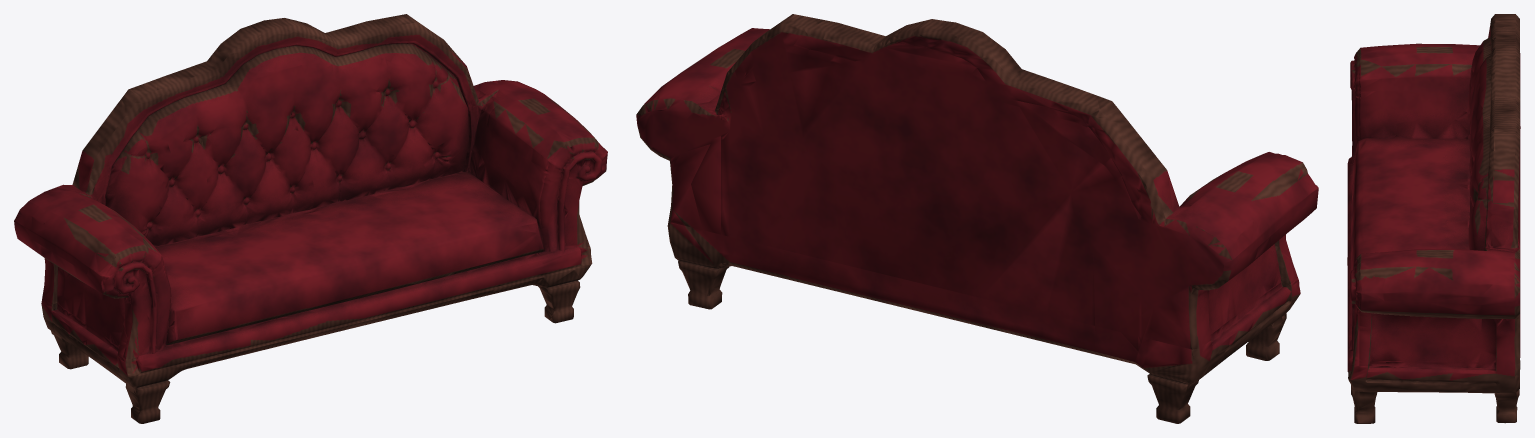
The model's file is Sofa_Parts.glb.
3 views of the same model, side by side, from view 1: azimuth 30°, elevation 25°; view 2: azimuth 150°, elevation 25°; view 3: azimuth 270°, elevation 25° (orthographic). The views are drawn at different scales.
Visible parts, largest first — view 1: Sofa_BackPanel, Sofa_Seat, Sofa_Base, Sofa_BackFrame, Sofa_Arm_L, Sofa_Arm_R, Sofa_ArmFront_L, Sofa_ArmFront_R, Sofa_Leg_FL, Sofa_Leg_FR, Sofa_Leg_BL; view 2: Sofa_BackRear, Sofa_BackFrame, Sofa_Arm_L, Sofa_Base, Sofa_Arm_R, Sofa_Leg_BL, Sofa_Leg_BR, Sofa_Leg_FL; view 3: Sofa_Arm_R, Sofa_Seat, Sofa_Arm_L, Sofa_BackFrame, Sofa_Base, Sofa_BackPanel, Sofa_ArmFront_R, Sofa_ArmFront_L, Sofa_Leg_FR, Sofa_Leg_BR, Sofa_BackRear.
Part boxes in pixels (x1=…): Sofa_BackPanel: x1=105, y1=39, x2=480, y2=250; Sofa_Seat: x1=158, y1=161, x2=540, y2=343; Sofa_Base: x1=41, y1=246, x2=592, y2=387; Sofa_BackFrame: x1=72, y1=14, x2=499, y2=205; Sofa_Arm_L: x1=14, y1=184, x2=174, y2=357; Sofa_Arm_R: x1=475, y1=80, x2=607, y2=253; Sofa_ArmFront_L: x1=103, y1=247, x2=178, y2=359; Sofa_ArmFront_R: x1=536, y1=139, x2=606, y2=260; Sofa_Leg_FL: x1=125, y1=380, x2=170, y2=423; Sofa_Leg_FR: x1=538, y1=279, x2=580, y2=323; Sofa_Leg_BL: x1=47, y1=327, x2=88, y2=369; Sofa_BackRear: x1=720, y1=43, x2=1141, y2=350; Sofa_BackFrame: x1=683, y1=14, x2=1194, y2=346; Sofa_Arm_L: x1=1153, y1=152, x2=1318, y2=349; Sofa_Base: x1=667, y1=219, x2=1300, y2=383; Sofa_Arm_R: x1=636, y1=28, x2=769, y2=229; Sofa_Leg_BL: x1=1147, y1=354, x2=1231, y2=423; Sofa_Leg_BR: x1=675, y1=257, x2=729, y2=309; Sofa_Leg_FL: x1=1246, y1=313, x2=1286, y2=360; Sofa_Arm_R: x1=1359, y1=248, x2=1520, y2=365; Sofa_Seat: x1=1349, y1=118, x2=1467, y2=340; Sofa_Arm_L: x1=1359, y1=43, x2=1479, y2=140; Sofa_BackFrame: x1=1467, y1=14, x2=1520, y2=280; Sofa_Base: x1=1347, y1=156, x2=1520, y2=391; Sofa_BackPanel: x1=1467, y1=34, x2=1519, y2=250; Sofa_ArmFront_R: x1=1349, y1=256, x2=1359, y2=365; Sofa_ArmFront_L: x1=1350, y1=49, x2=1359, y2=166; Sofa_Leg_FR: x1=1351, y1=385, x2=1429, y2=423; Sofa_Leg_BR: x1=1429, y1=389, x2=1519, y2=423; Sofa_BackRear: x1=1518, y1=53, x2=1520, y2=338.
Size of the model in its own units: 2.1 by 1.13 by 0.6386.
Materials: 1 (1 with a texture image).
